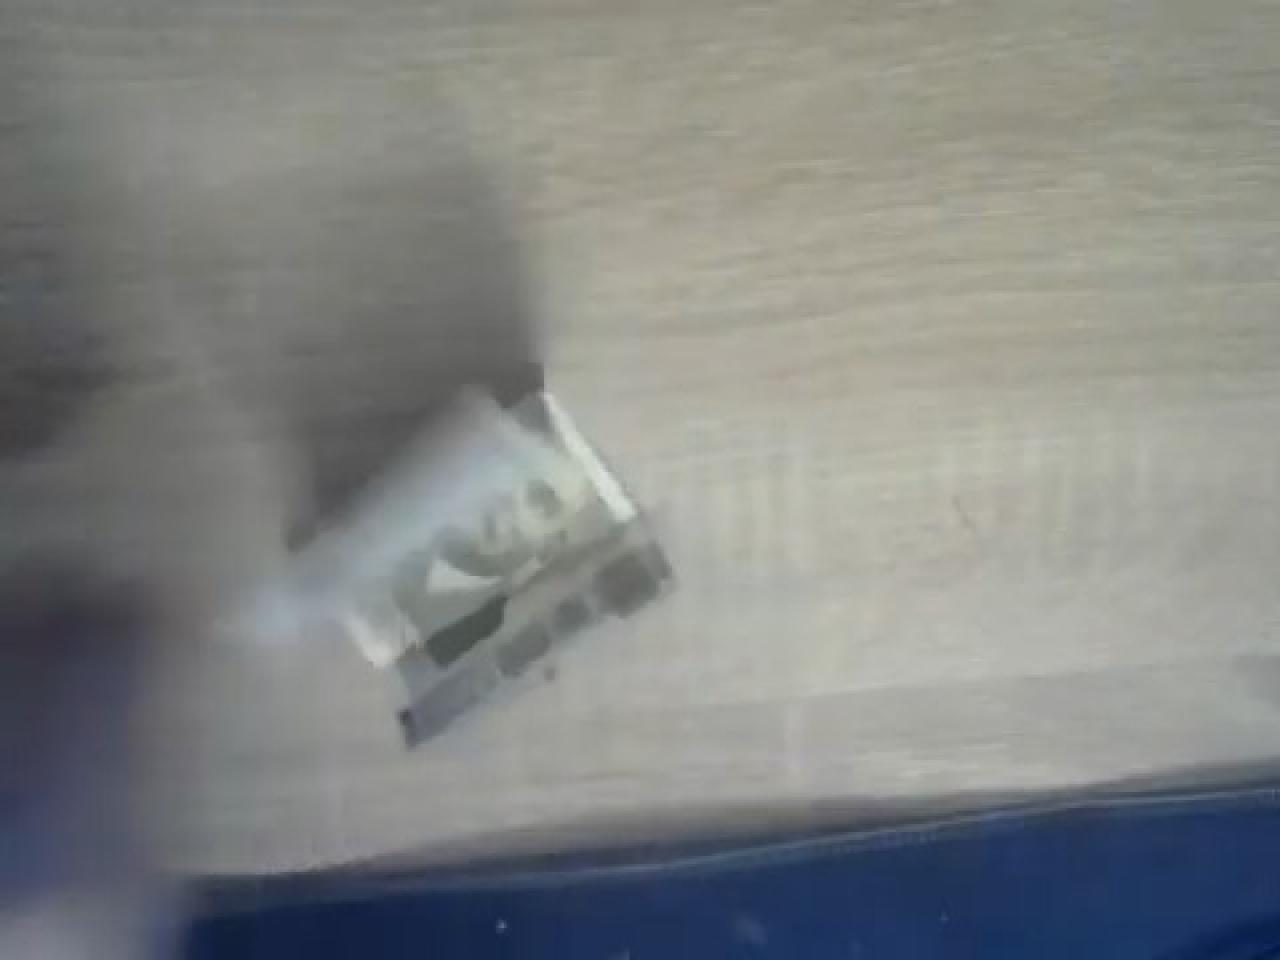10leva: (290, 384, 674, 746)
